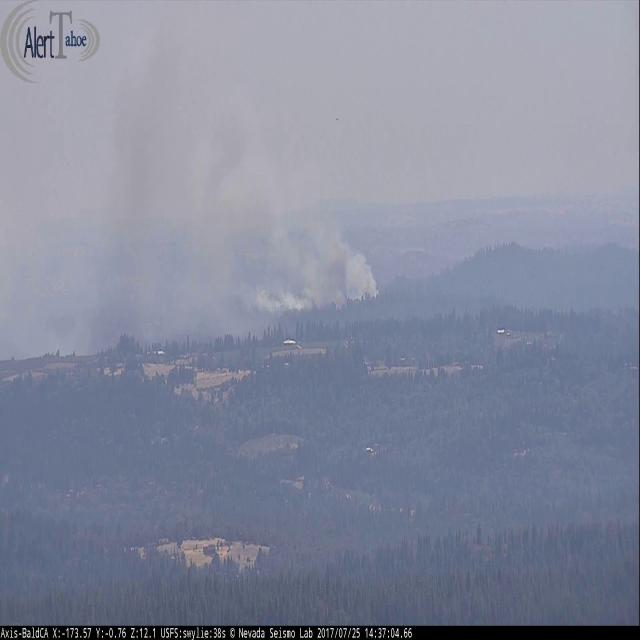smoke: (131, 89, 389, 310)
